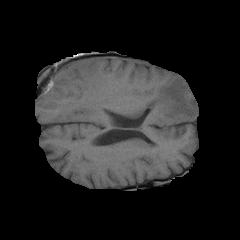glioma: (37, 59, 197, 121)
